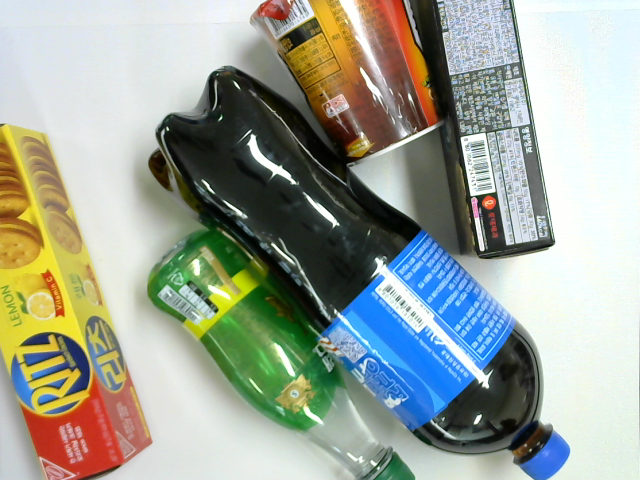Chicchok_Original_2400: (412, 1, 560, 265)
Ojjam: (245, 1, 447, 170)
Pepsi_Cola_1.5L: (146, 62, 572, 479)
Ritz_Remon_96g: (1, 126, 155, 480)
Seagram_Lemon_Carbonated_Water: (145, 225, 422, 480)
